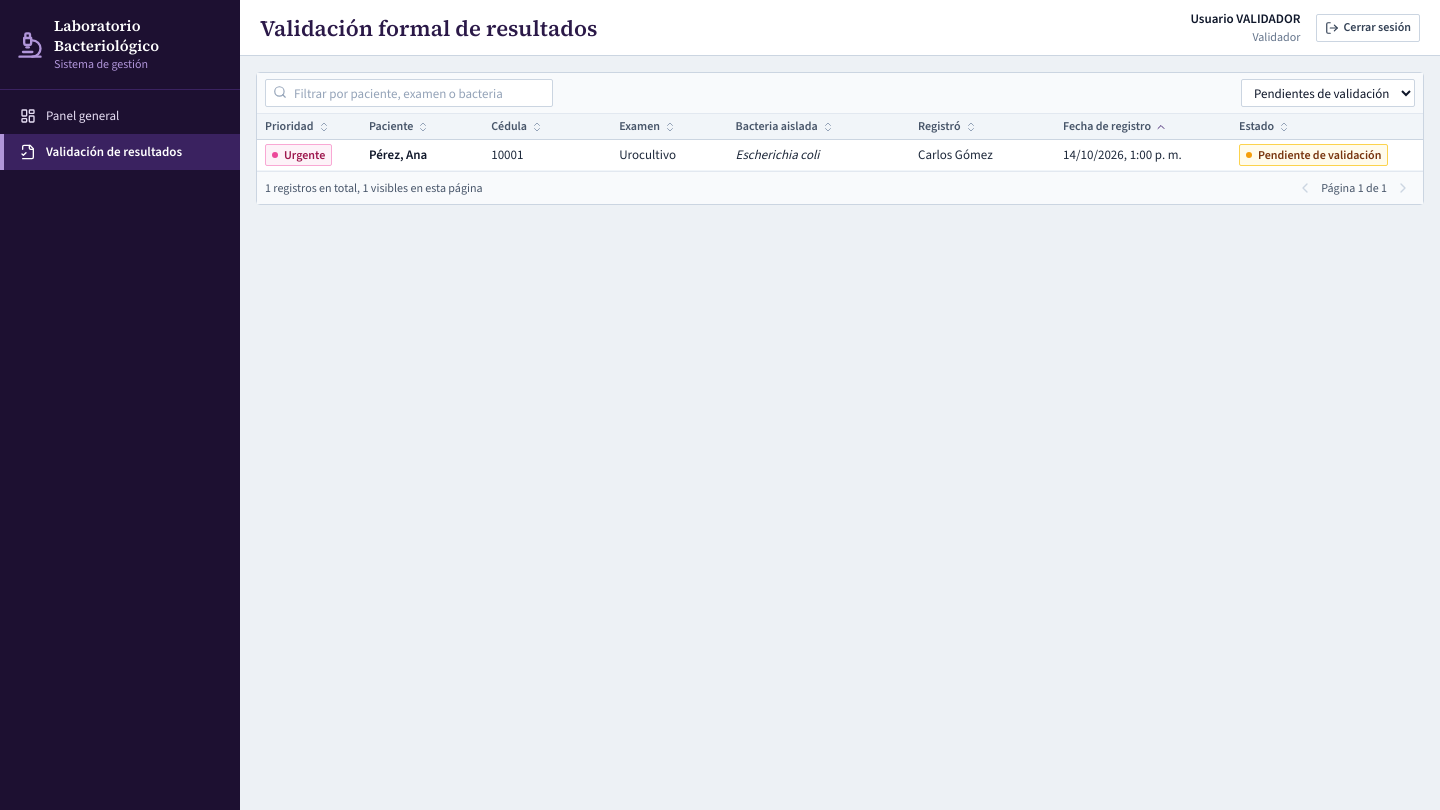
Test: Validación con doble firma › quien registró el resultado no puede validarlo
Click the text "Pérez, Ana": (398,154) [369, 146, 427, 163]
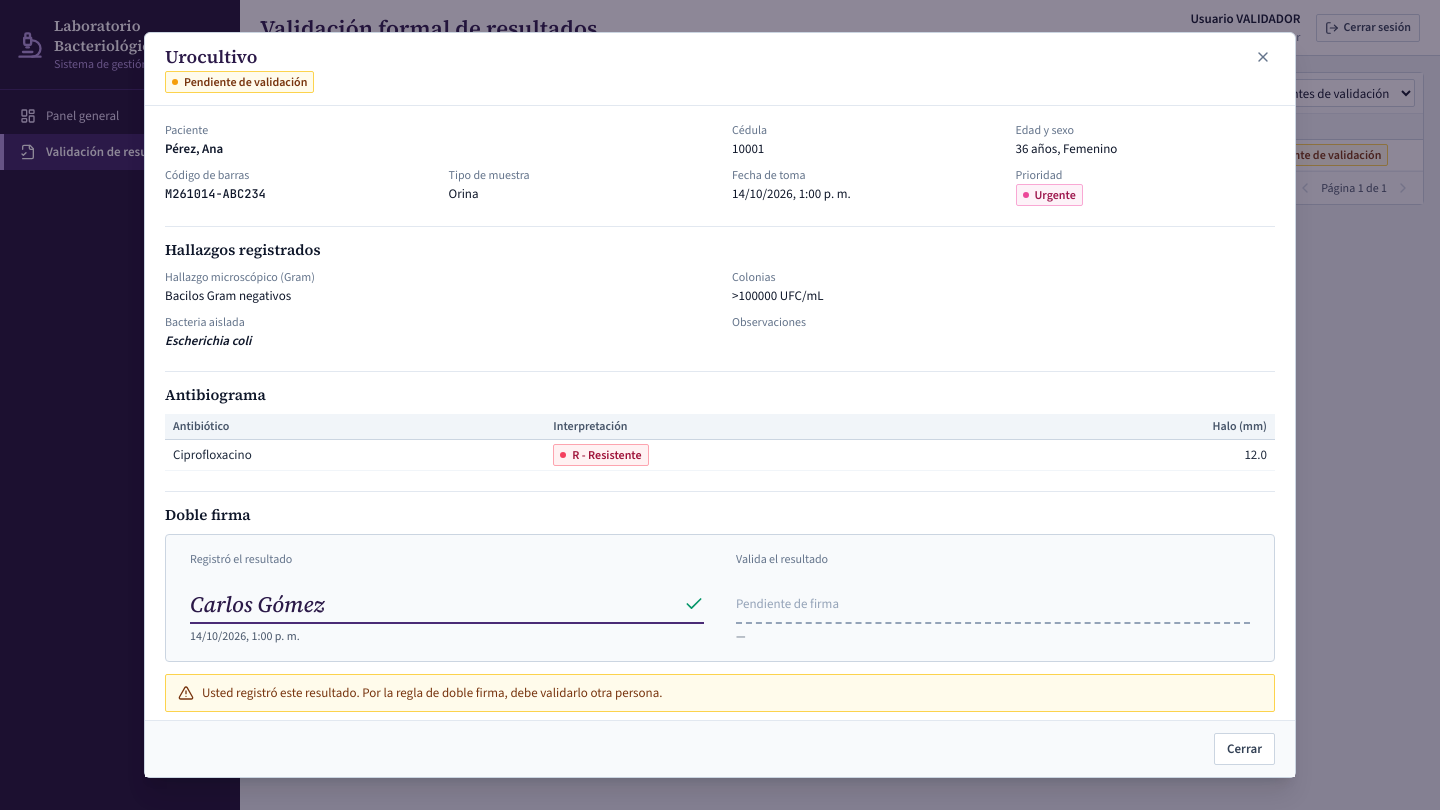
Expected: the text "debe validarlo otra persona" is shown, [202, 684, 662, 701]
